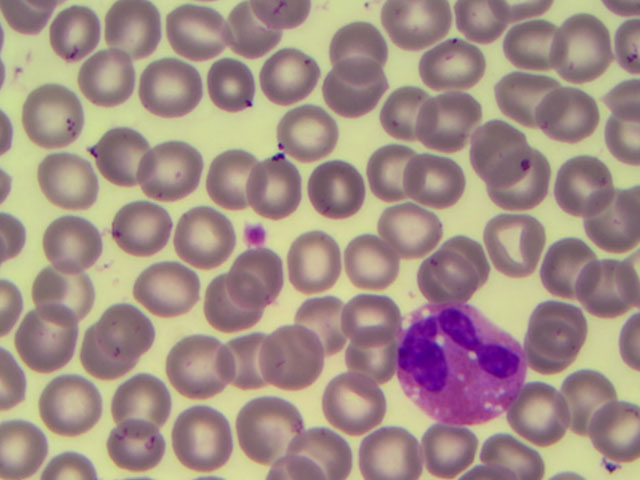Platelets: (243, 223, 264, 243)
RBC: (301, 424, 357, 480), (483, 424, 539, 480), (426, 424, 482, 480), (365, 424, 421, 480), (77, 46, 133, 101), (105, 3, 161, 58), (141, 62, 197, 117), (158, 2, 214, 57), (208, 60, 264, 115), (222, 4, 278, 59), (262, 51, 318, 106), (283, 108, 339, 163), (303, 156, 359, 211), (251, 150, 307, 205), (196, 154, 252, 209), (156, 146, 212, 201), (97, 122, 153, 177), (50, 153, 106, 208), (33, 87, 89, 142), (34, 204, 90, 259), (41, 262, 97, 317), (26, 304, 82, 359), (74, 329, 130, 384), (114, 304, 170, 359), (145, 263, 201, 318), (107, 202, 163, 257), (173, 208, 229, 263), (200, 282, 256, 337), (233, 253, 289, 308), (267, 326, 323, 381), (231, 329, 287, 384), (165, 341, 221, 396), (112, 373, 168, 428), (108, 414, 164, 469), (40, 374, 96, 429), (5, 422, 61, 477), (167, 408, 223, 463), (246, 402, 302, 457), (330, 371, 386, 426), (351, 327, 407, 382), (341, 294, 397, 349), (296, 292, 352, 347), (286, 225, 342, 280), (331, 228, 387, 283), (380, 206, 436, 261), (397, 154, 453, 209), (377, 138, 433, 193), (375, 88, 431, 143), (417, 90, 473, 145), (324, 62, 380, 117), (332, 20, 388, 75), (425, 33, 481, 88), (388, 2, 444, 57), (468, 122, 524, 177), (493, 72, 549, 127), (539, 85, 595, 140), (501, 14, 557, 69), (551, 12, 607, 67), (553, 161, 609, 216), (493, 159, 549, 214), (481, 218, 537, 273), (443, 237, 499, 292), (416, 254, 472, 309), (523, 301, 579, 356), (543, 244, 599, 299), (573, 271, 629, 326), (584, 190, 640, 245), (582, 409, 638, 464), (559, 366, 615, 421), (512, 384, 568, 439), (48, 8, 98, 55)
